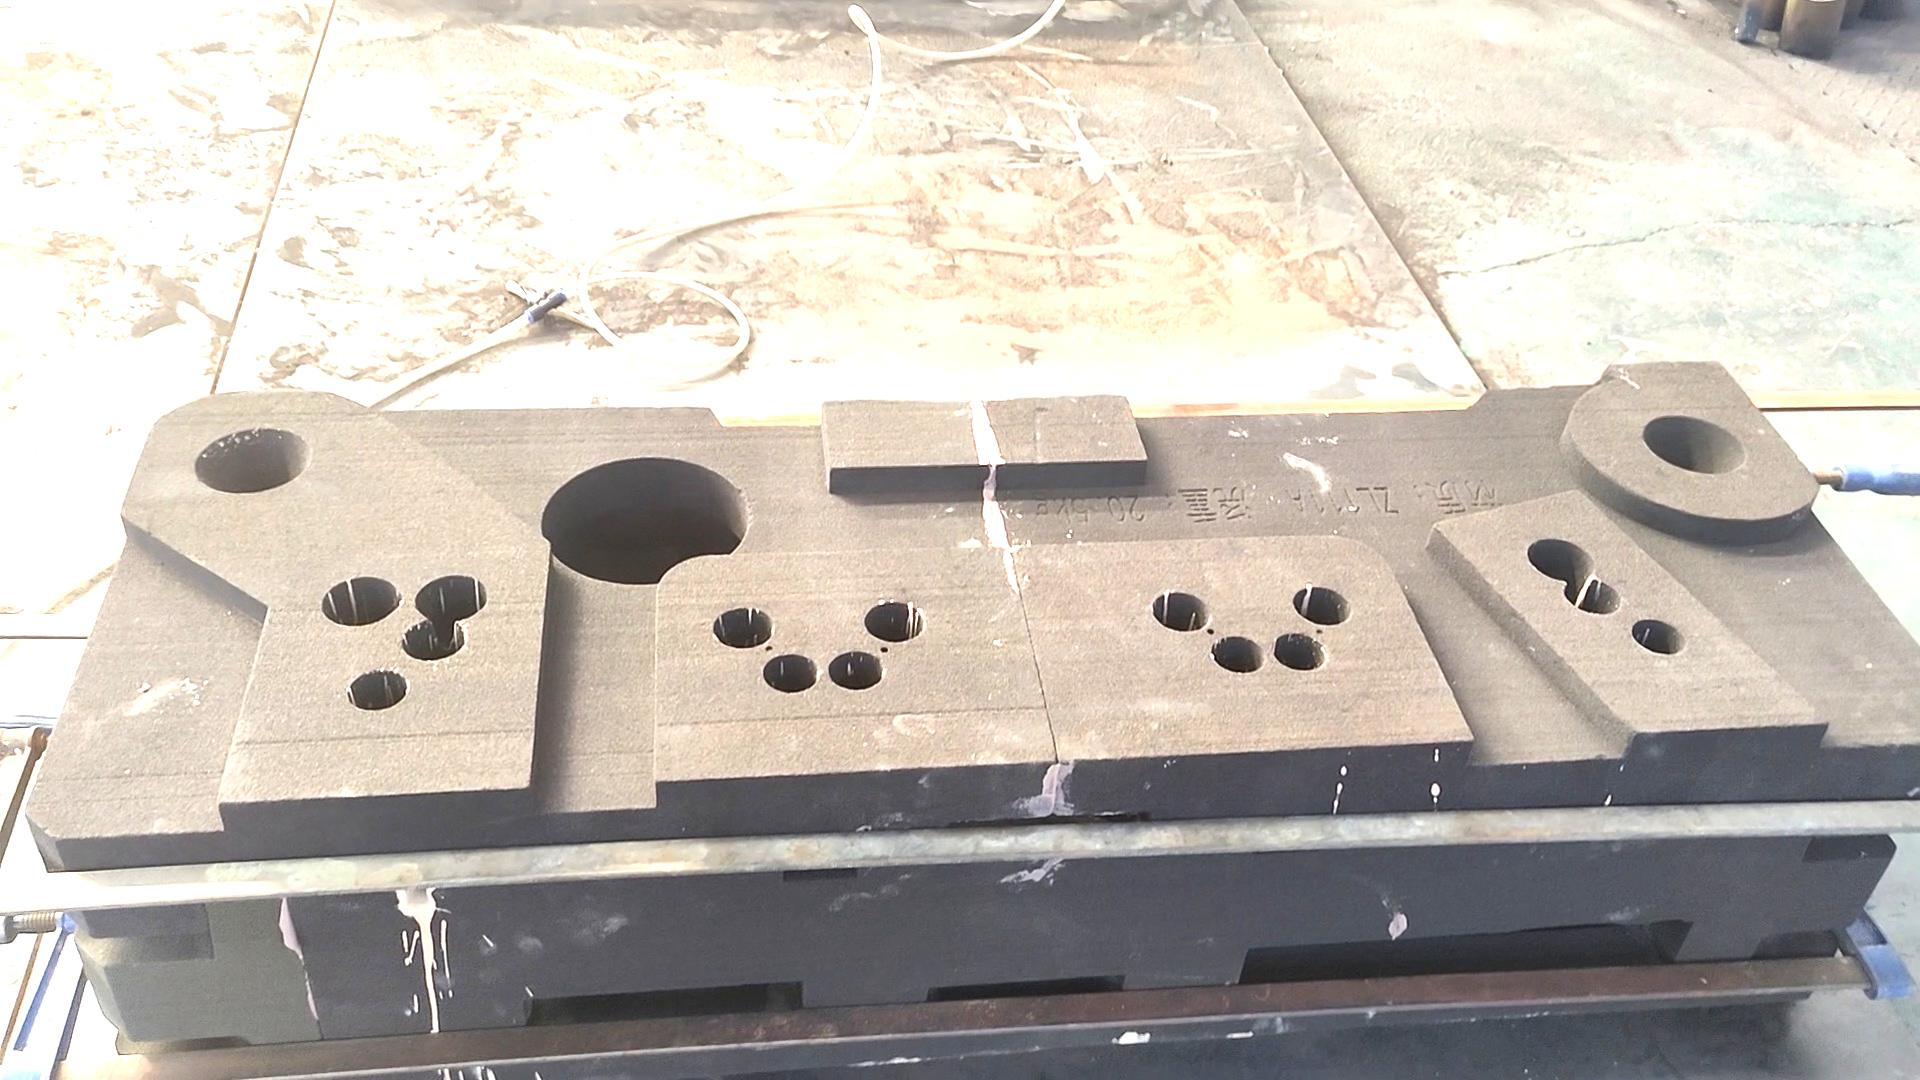pouring hole: (194, 429, 309, 492), (1643, 415, 1745, 476)
